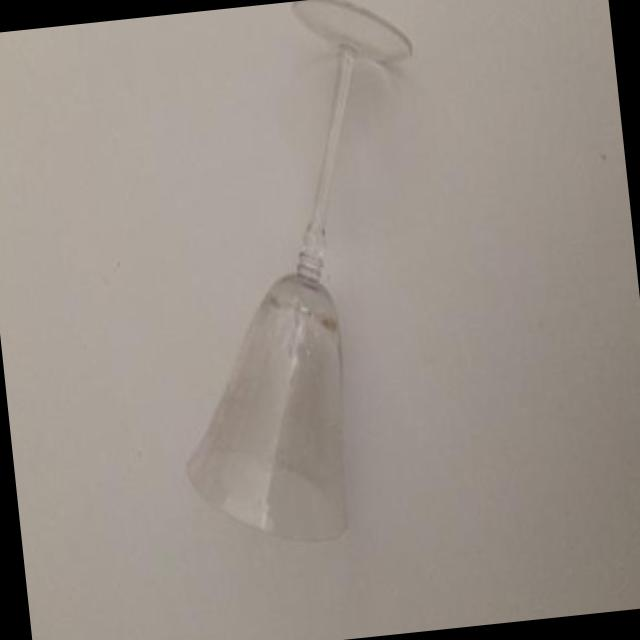chai_thuy_tinh: (184, 0, 409, 547)
